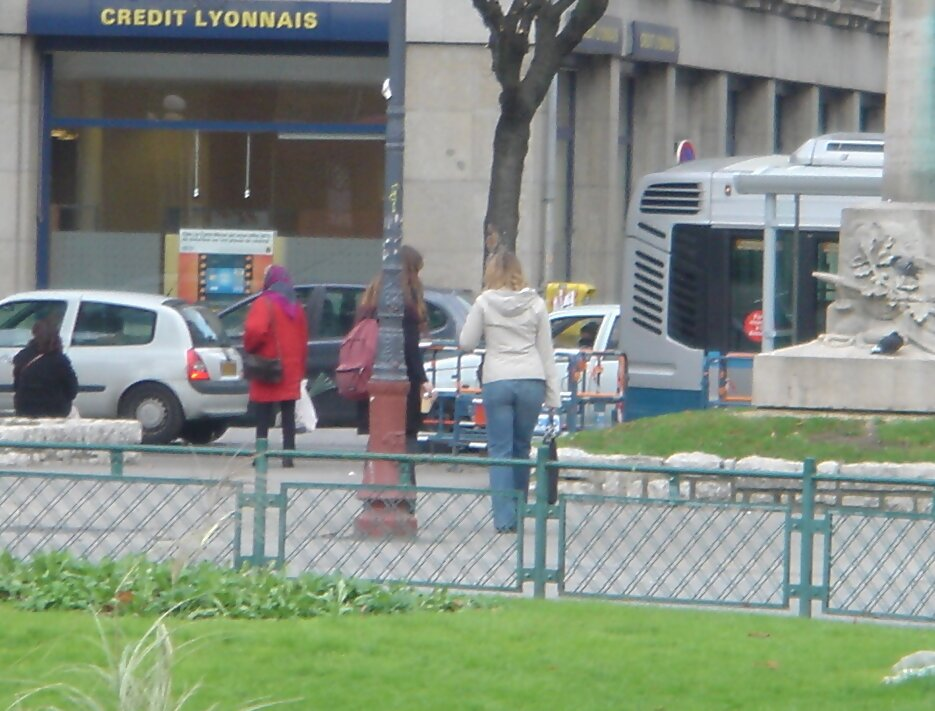person: (467, 245, 565, 537), (360, 243, 436, 459), (246, 262, 318, 480)
